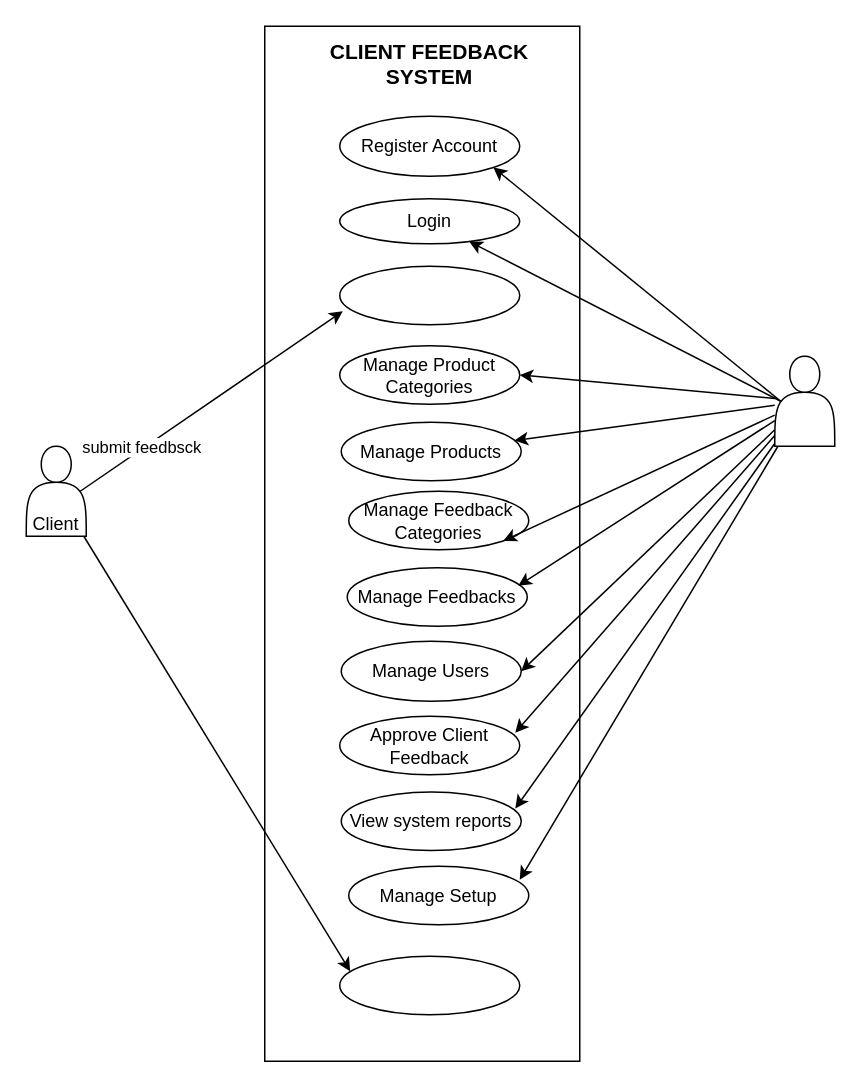
Some shapes in this 861 by 1088 pixel diagram are drawn without their labels. Each missing label, with the centre of its shape:
Admin: the point at 804,400
Submit feedback: the point at 429,295
View Product Ratings: the point at 429,985
